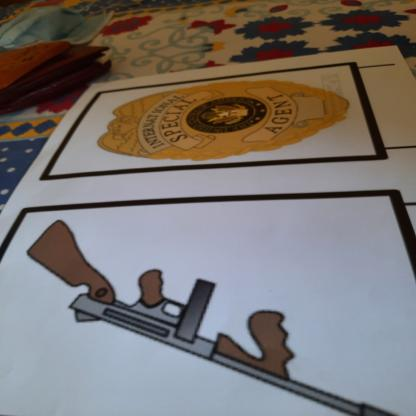Bootlegger: (14, 203, 416, 416)
G-man: (99, 75, 356, 168)
